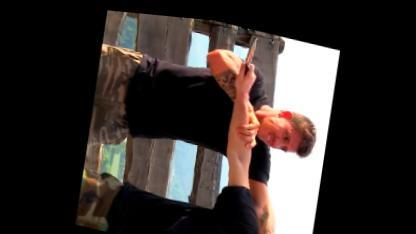knife: (232, 23, 264, 84)
